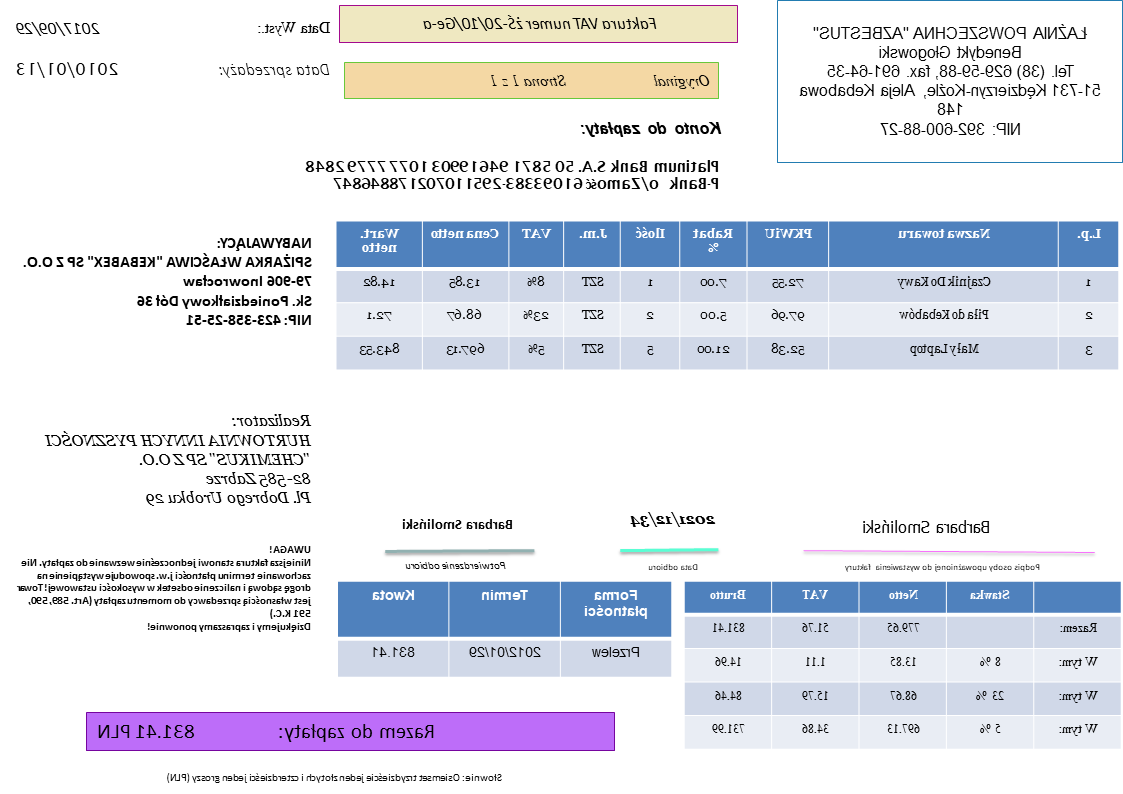Table: (335, 220, 1120, 371), (683, 580, 1122, 749), (336, 579, 673, 679)
TextBox: (797, 20, 1104, 139), (21, 235, 314, 329), (15, 543, 313, 635), (42, 410, 314, 507), (302, 156, 722, 193), (95, 720, 438, 744), (163, 770, 506, 787), (487, 71, 713, 92), (420, 14, 660, 32), (577, 117, 724, 140), (842, 560, 1043, 574), (860, 516, 992, 536), (217, 60, 333, 80), (16, 59, 120, 81), (628, 509, 717, 532), (400, 516, 516, 532), (15, 18, 103, 38), (257, 18, 333, 39), (405, 559, 509, 572), (647, 561, 700, 572)
